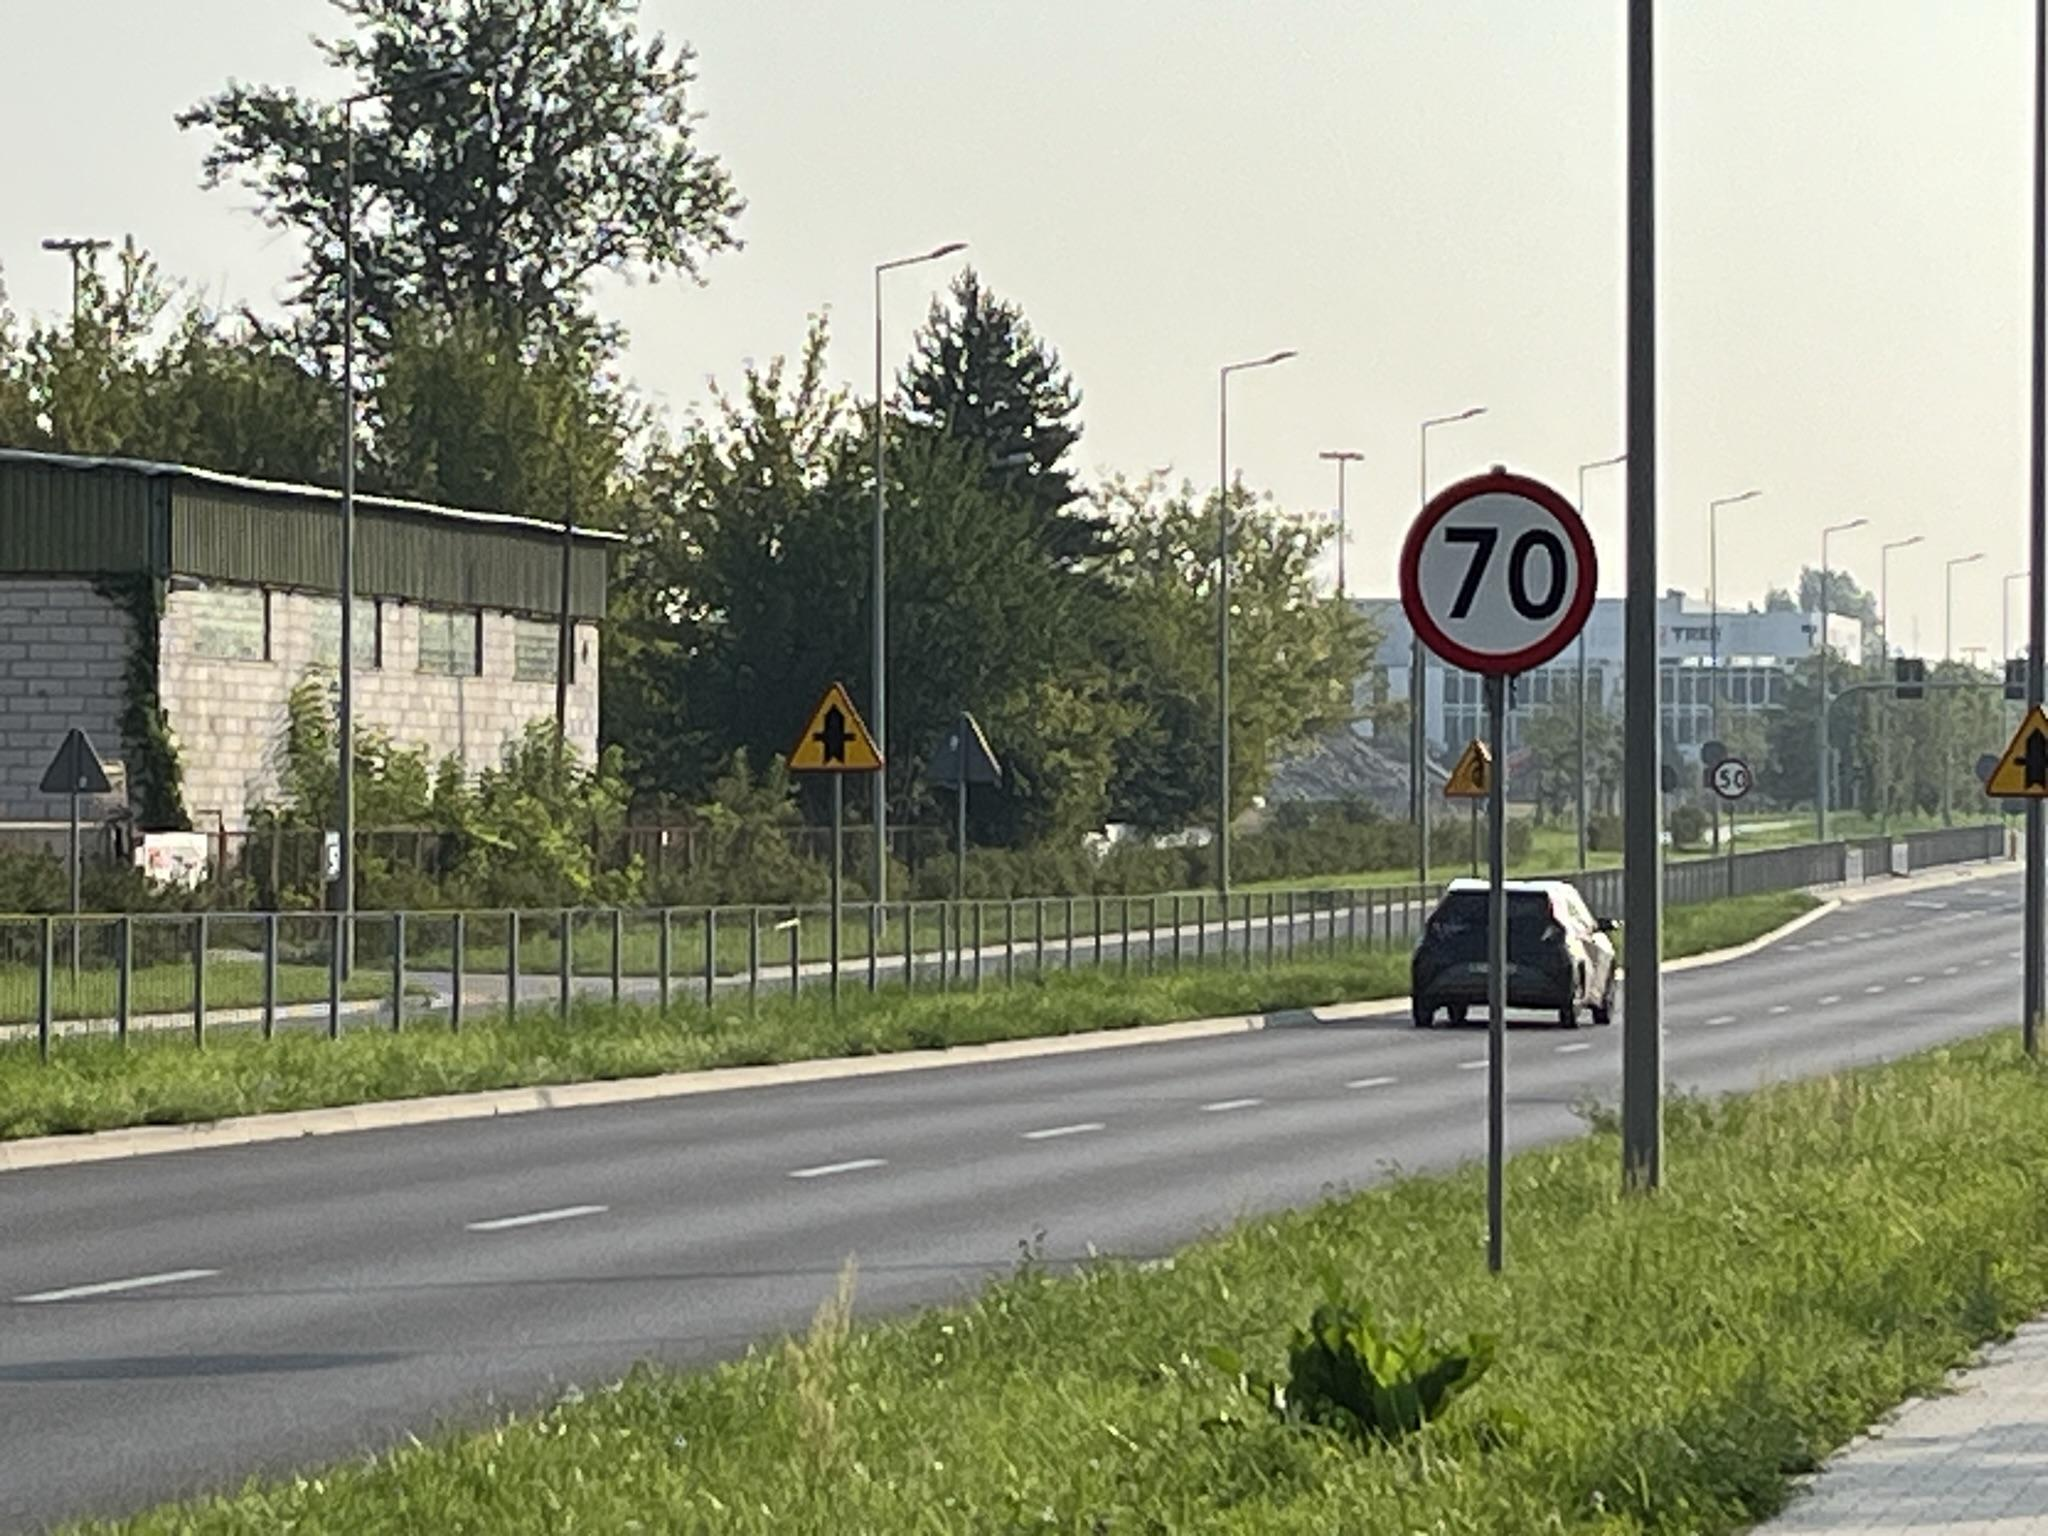prohibitory: (1395, 468, 1600, 677), (1711, 759, 1754, 798)
warning: (787, 679, 884, 773), (1985, 704, 2048, 799), (1443, 738, 1491, 795)
